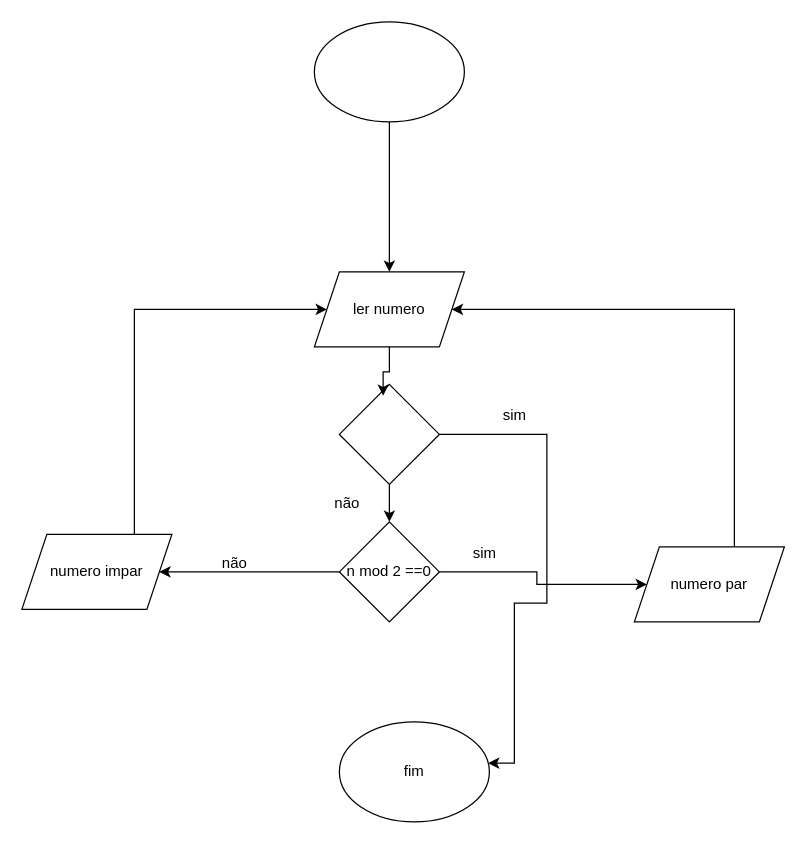
The diagram is 806 pixels wide and 844 high, and some of its shapes have lost their labels. The shapes that lost their labels are listed below. From the top down, each one's centre as x and y in pixels, then its label:
point 388,71: inicio
point 388,433: n==0
